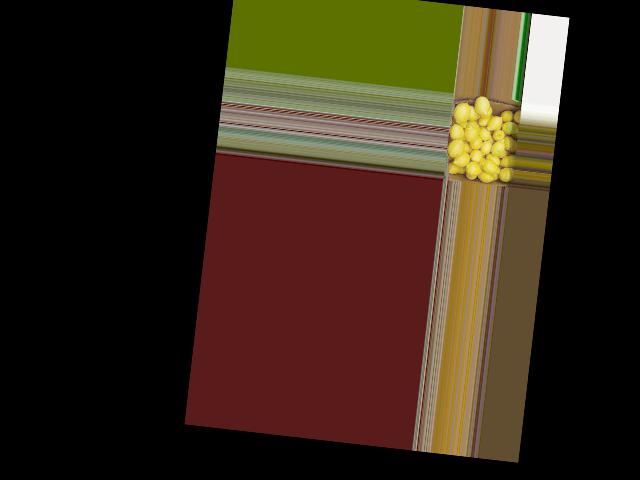lemon: (478, 128, 492, 141)
